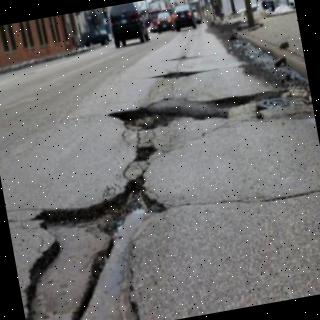pothole: (24, 174, 168, 320), (109, 90, 291, 132), (149, 66, 236, 80), (134, 147, 158, 162), (168, 55, 208, 61)
